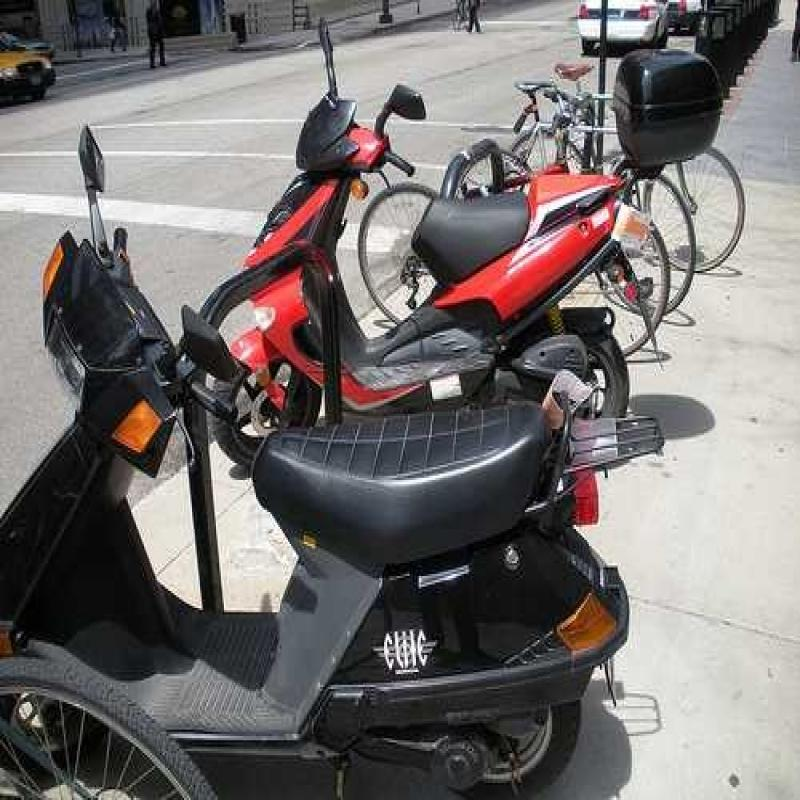bike: (4, 128, 728, 798), (232, 25, 632, 457)
